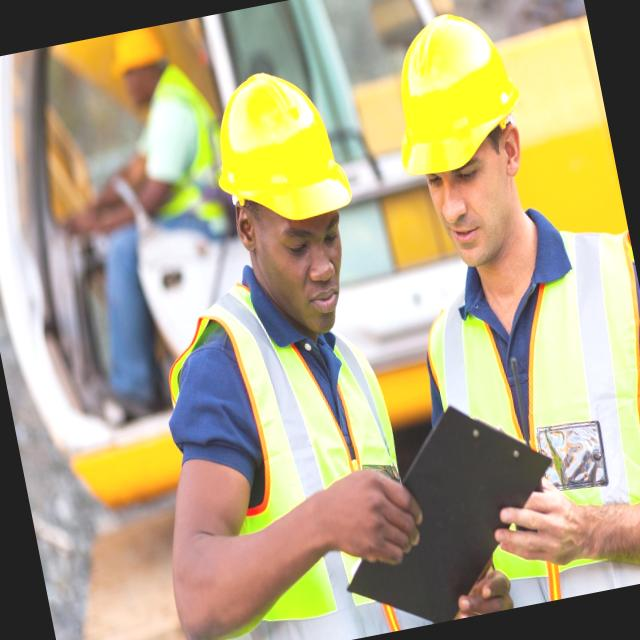helmet: (188, 58, 366, 254), (366, 3, 544, 192)
vest: (154, 261, 447, 640), (402, 223, 640, 616)
